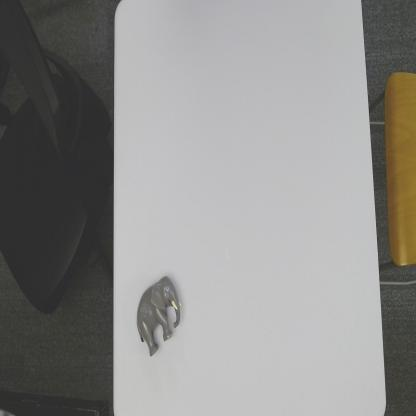Elephant: (135, 275, 183, 359)
